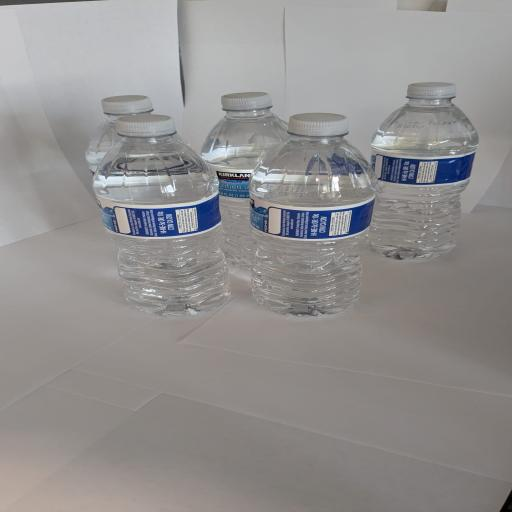waterbottle: (94, 115, 229, 315), (250, 114, 377, 315), (368, 83, 478, 259), (202, 93, 288, 268), (86, 96, 153, 174)
